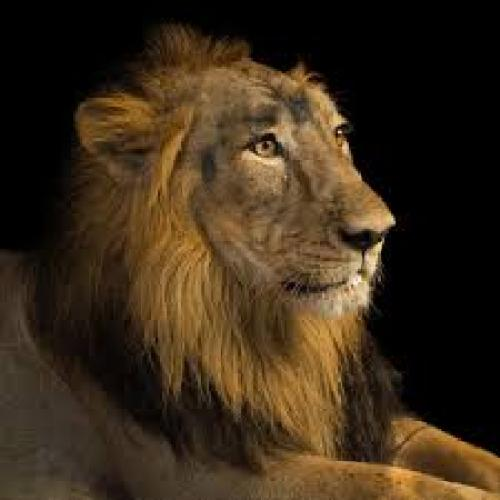lion-endangered: (13, 21, 480, 500)
